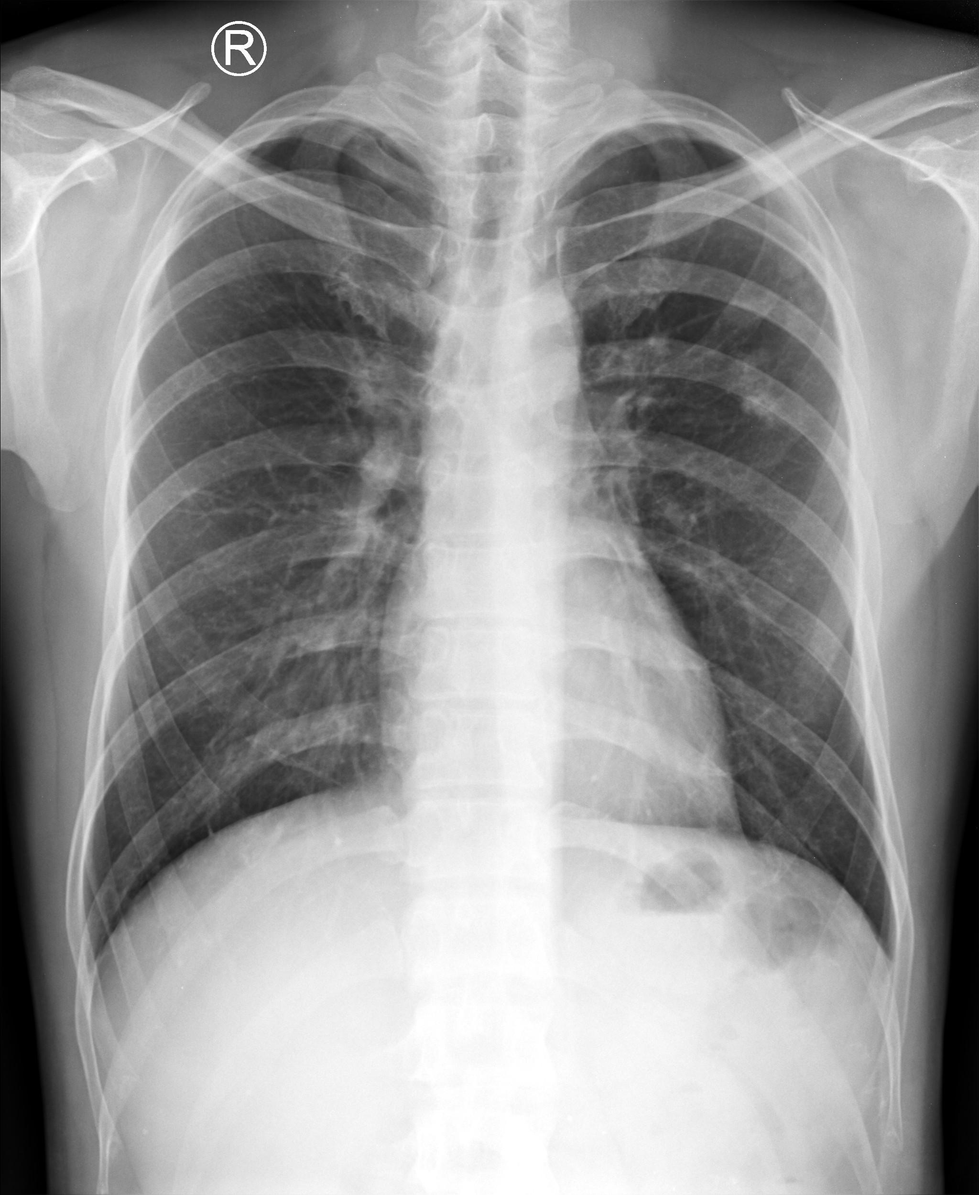Pulmonary fibrosis: (736, 391, 783, 424)
